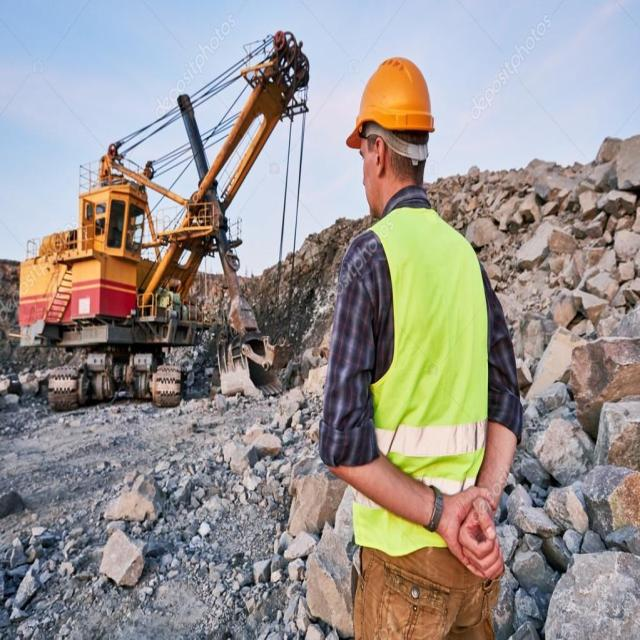excavator: (4, 25, 296, 393)
